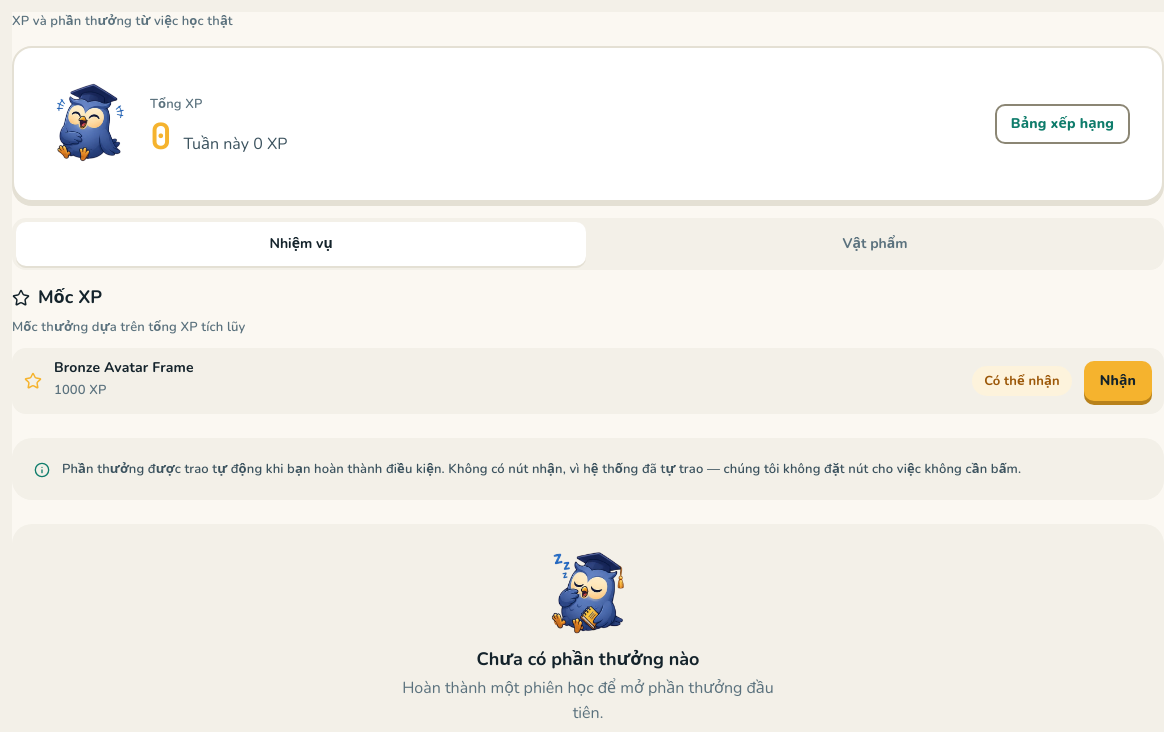
Test case: RewardsPage — milestones, missions and the inventory › reports a FAILED claim instead of silently doing nothing
The width and height of the screenshot is (1164, 732).
Step 1. Click the button "Nhận" → click(1118, 381), box [1084, 361, 1152, 401]
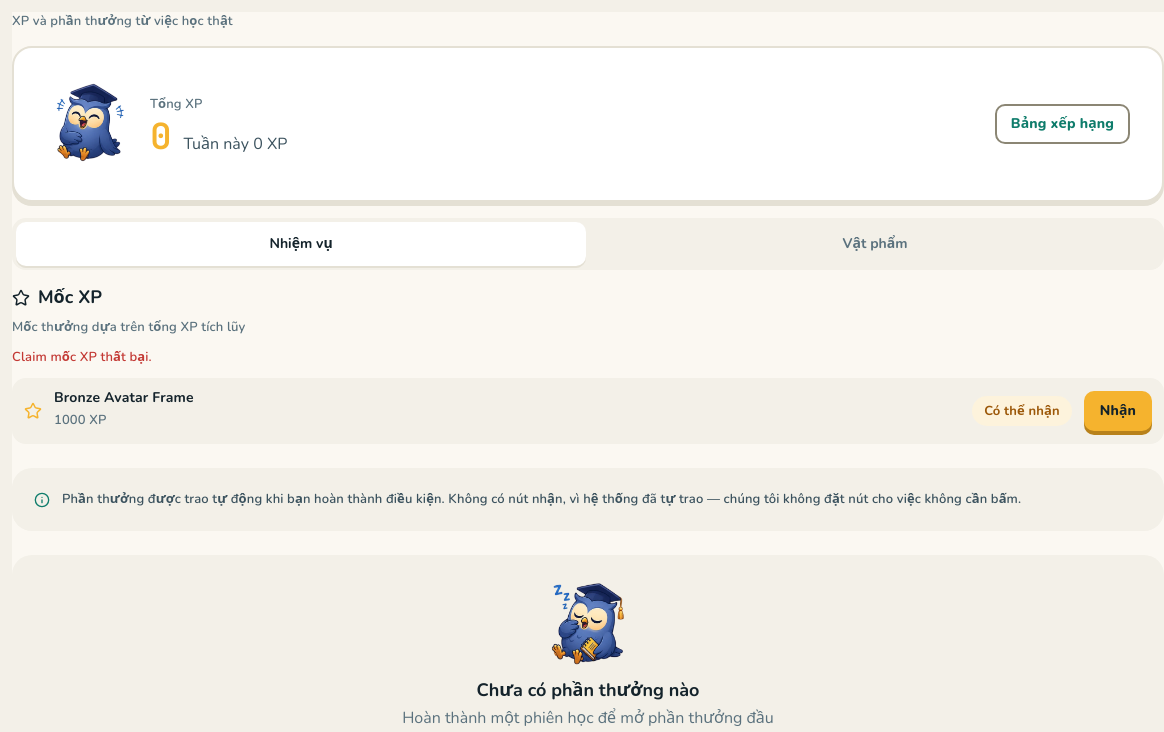
Expected: the message reads "Claim mốc XP thất bại.", [12, 348, 152, 366]
